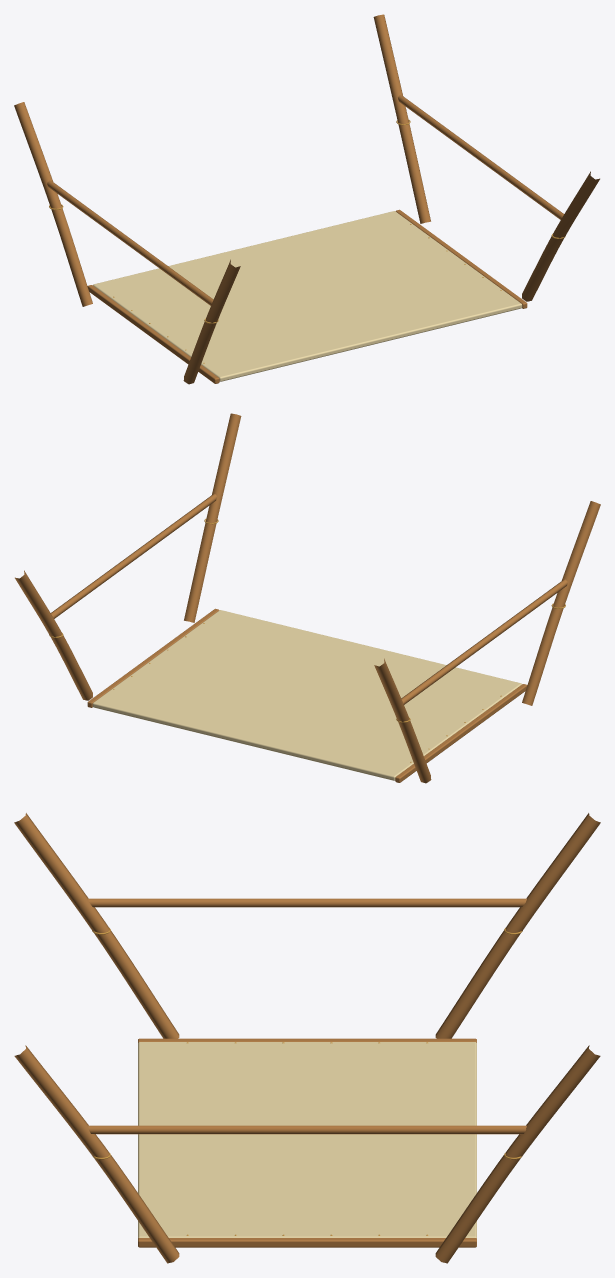
Rendered from chair-seat-stable-light.glb.
3 renders of one model, top to bottom at view 1: azimuth 30°, elevation 25°; view 2: azimuth 150°, elevation 25°; view 3: azimuth 270°, elevation 25°, orthographic. The views are drawn at different scales.
Parts seen in each view (by area): view 1: cloth, wood; view 2: cloth, wood; view 3: cloth, wood.
Part boxes in pixels (x1=…): cloth: x1=93, y1=211, x2=522, y2=381; wood: x1=14, y1=14, x2=599, y2=384; cloth: x1=92, y1=610, x2=521, y2=780; wood: x1=15, y1=413, x2=600, y2=783; cloth: x1=138, y1=1042, x2=476, y2=1238; wood: x1=14, y1=813, x2=600, y2=1263.
Bounding box in the file's own units: 11.84 × 5.12 × 12.25.
